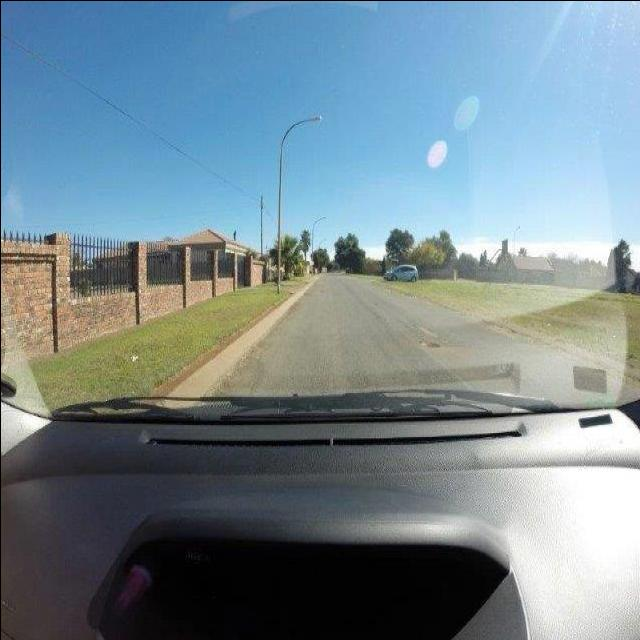lubang: (478, 317, 548, 348), (416, 334, 442, 352)
